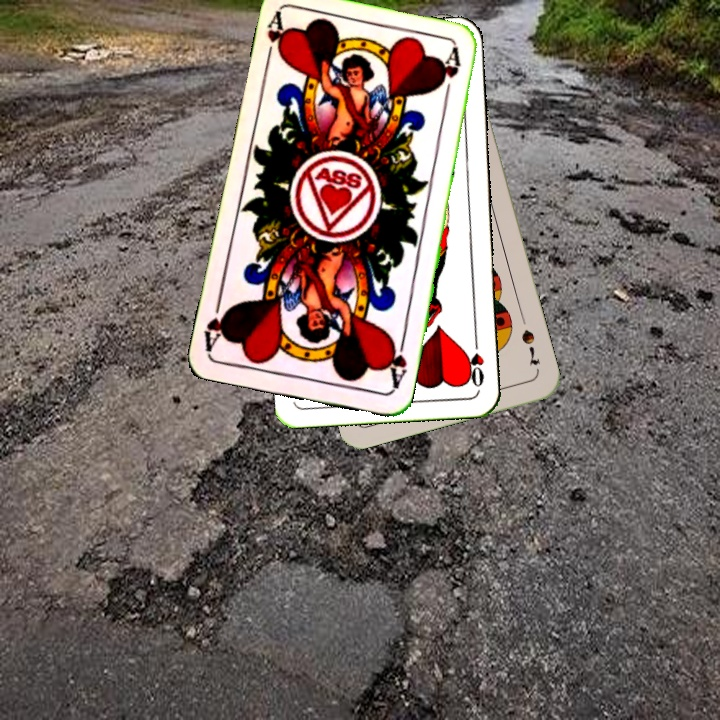HA: (262, 10, 291, 69), (382, 333, 410, 392)
HO: (465, 332, 486, 390)
S7: (517, 325, 543, 368)
